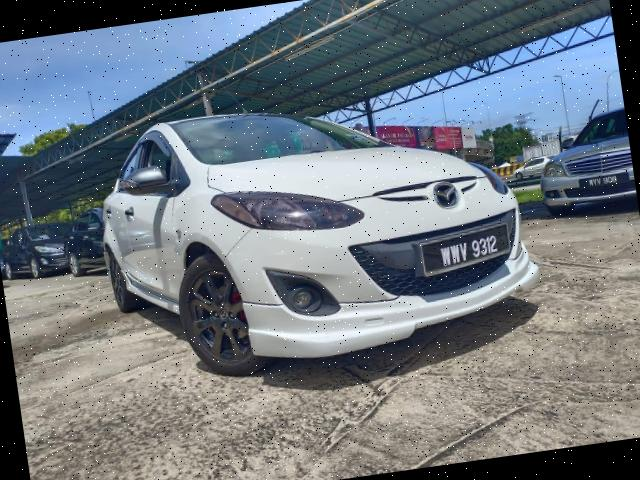License_Plate: (425, 228, 514, 279), (577, 170, 629, 193)
